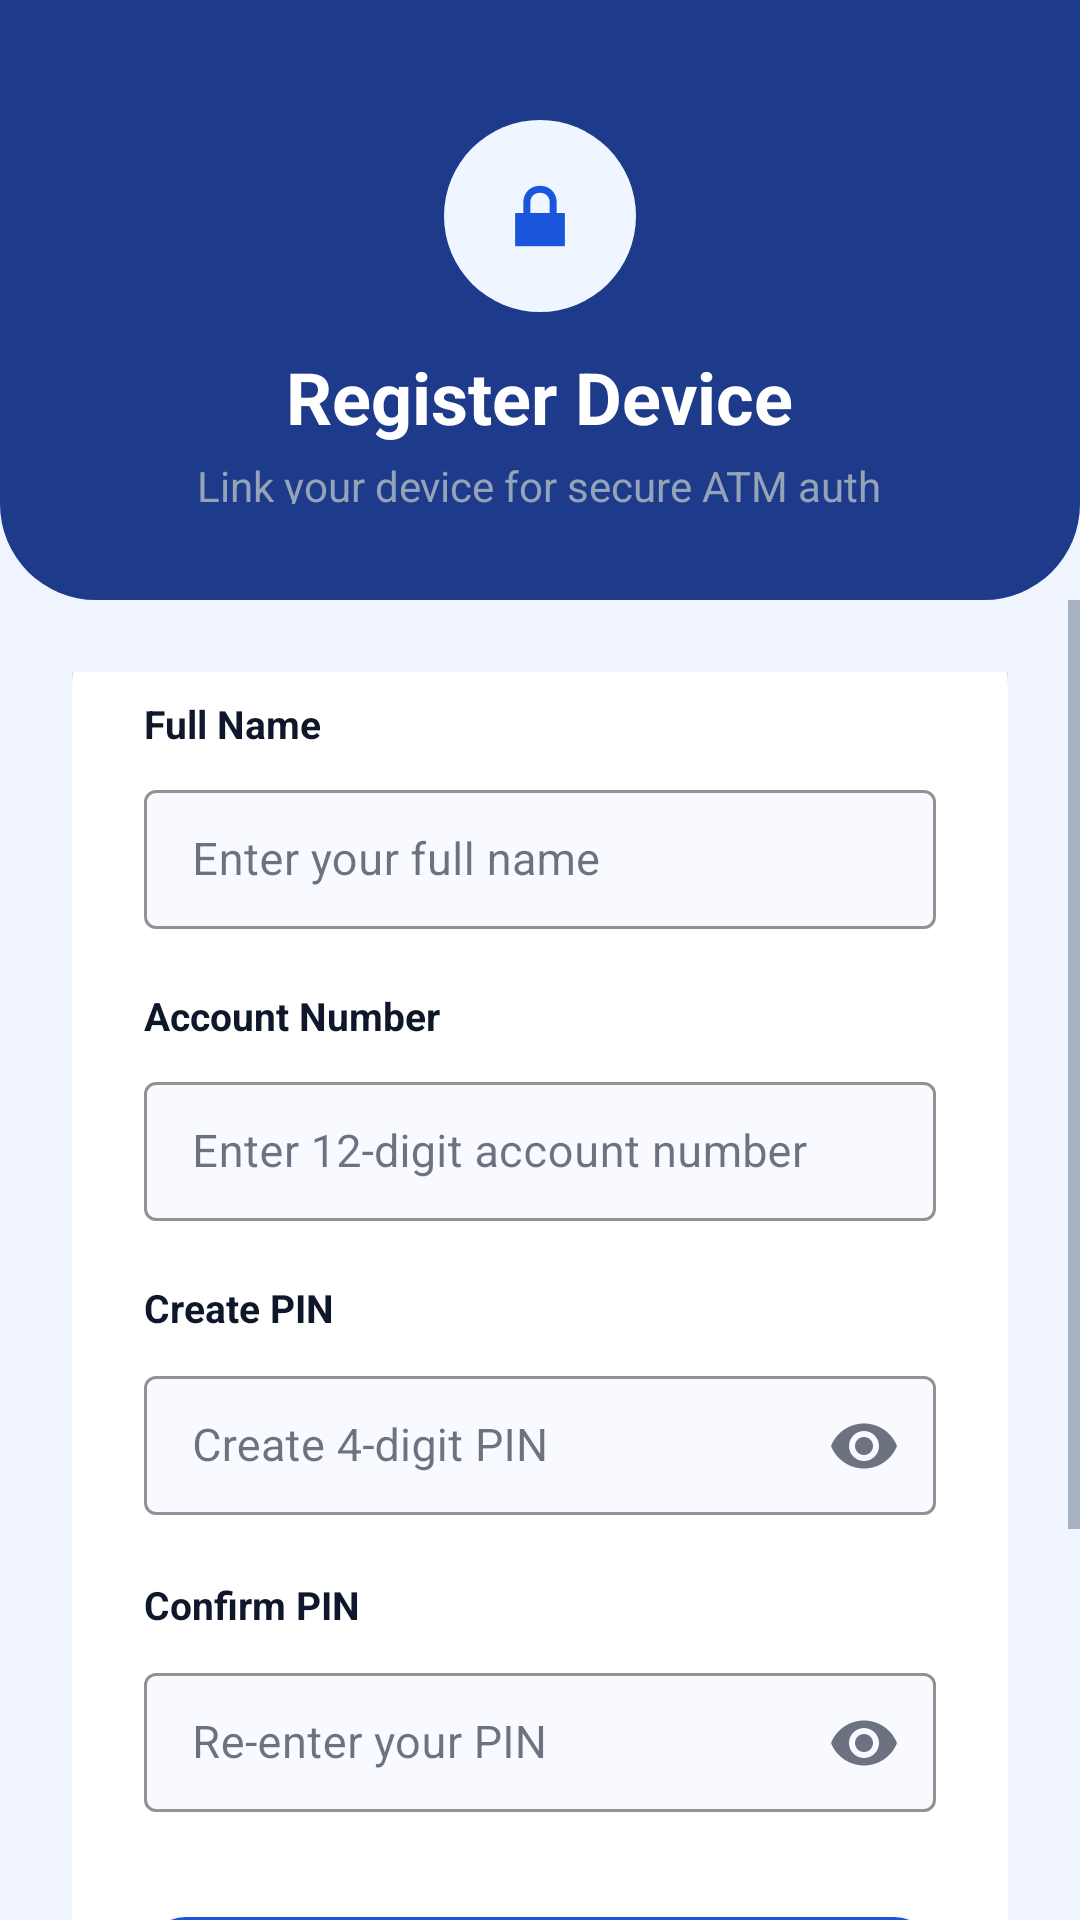

Point at icon controls on the screen. Image size 1080 x 1920, points as (x,y).
lock: (540,216)
